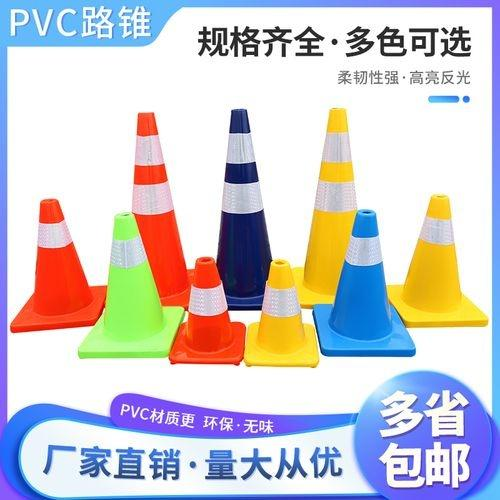cone_barrel: (293, 109, 365, 307), (208, 111, 278, 314), (119, 115, 189, 314), (75, 218, 162, 366), (324, 209, 408, 353), (396, 193, 477, 322), (16, 201, 95, 326), (245, 261, 314, 366), (171, 262, 235, 363)
